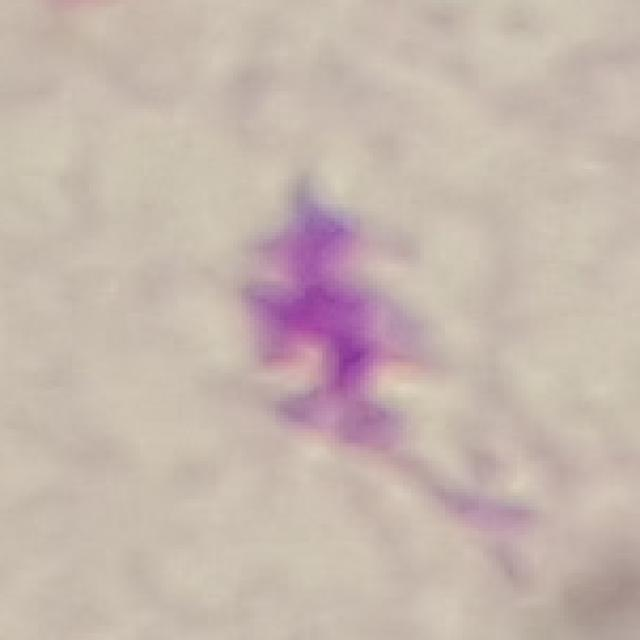non-sperm: (244, 198, 425, 458)
